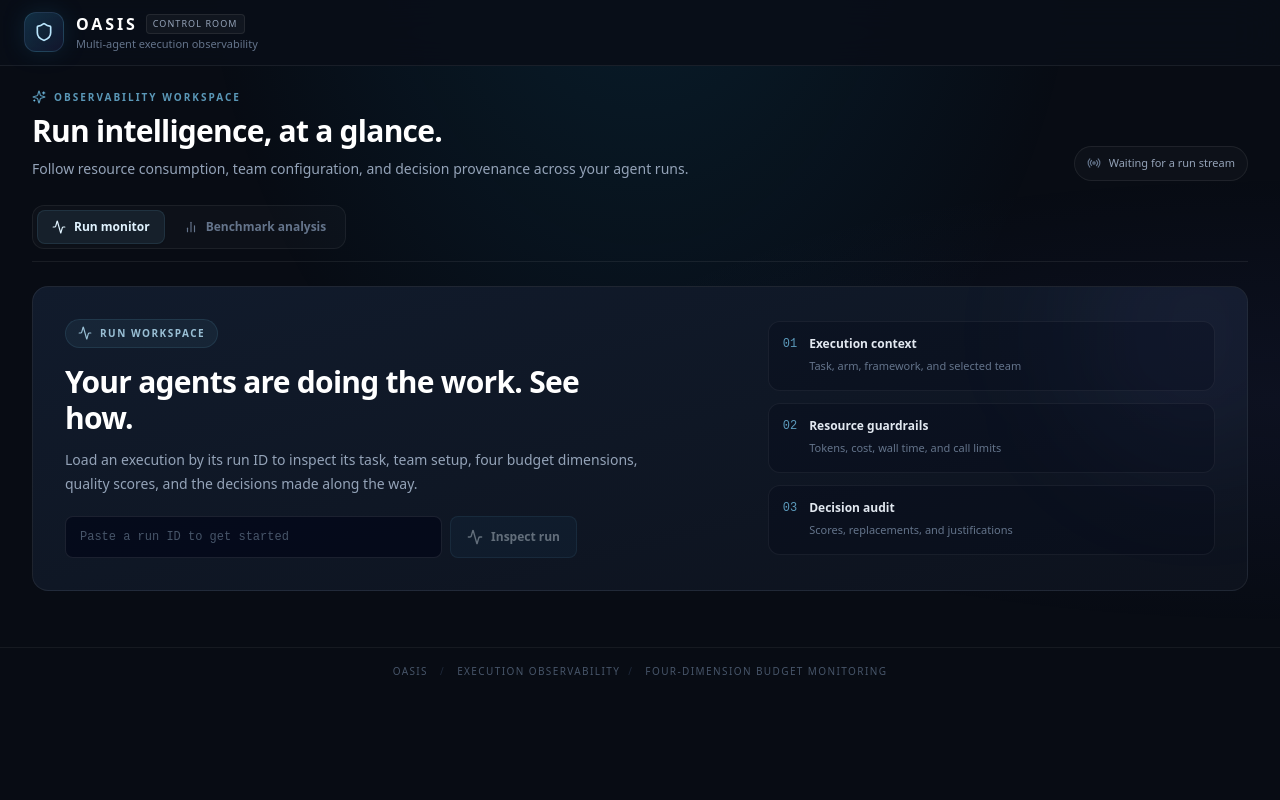
OASIS React Dashboard (FR-25) › loads the requested run and displays API-backed budget and decision data
Expected: the text "OASIS" is shown, [76,12,138,36]
Type "01JRUN00000000000000000001" into the field named "Run ID to inspect" at {"x": 254, "y": 536}, box [65,516,442,558]
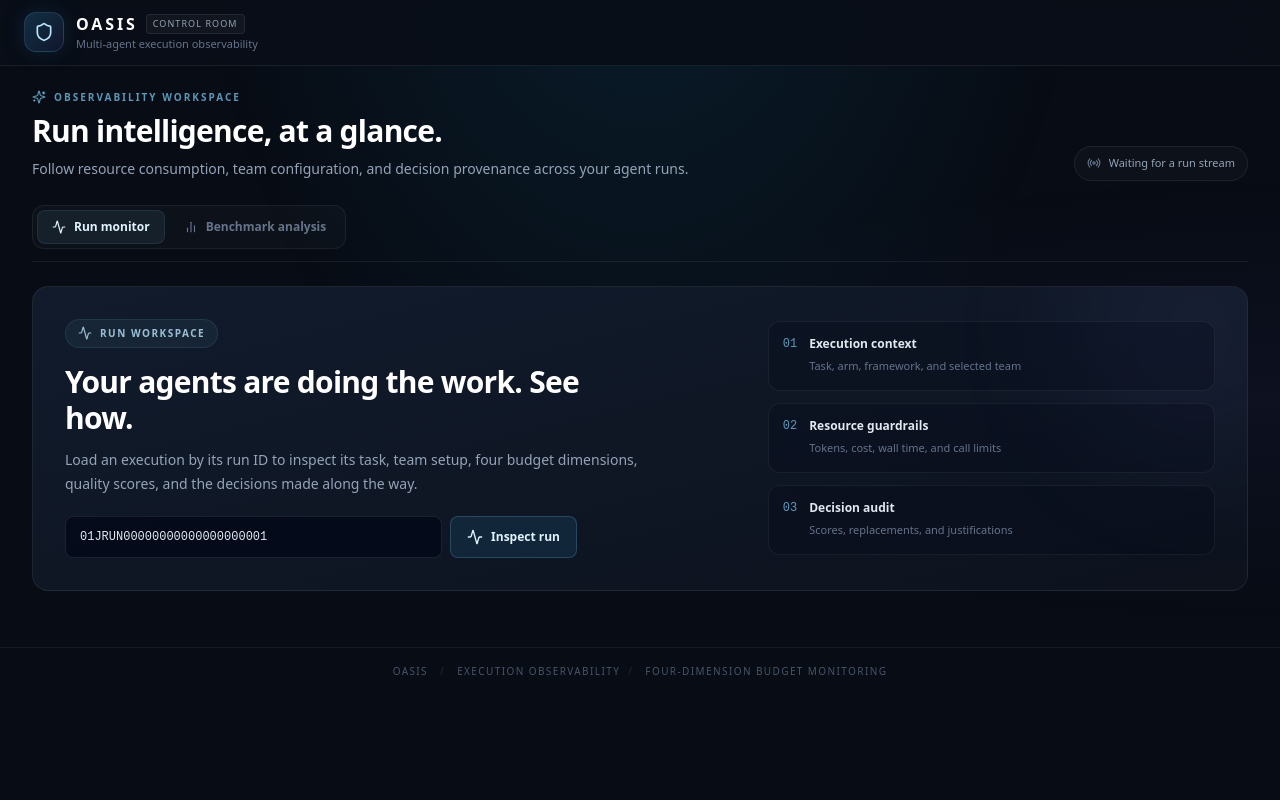
Click the button "Inspect run" at {"x": 514, "y": 536}, box [450,516,577,558]
(page scrolled)
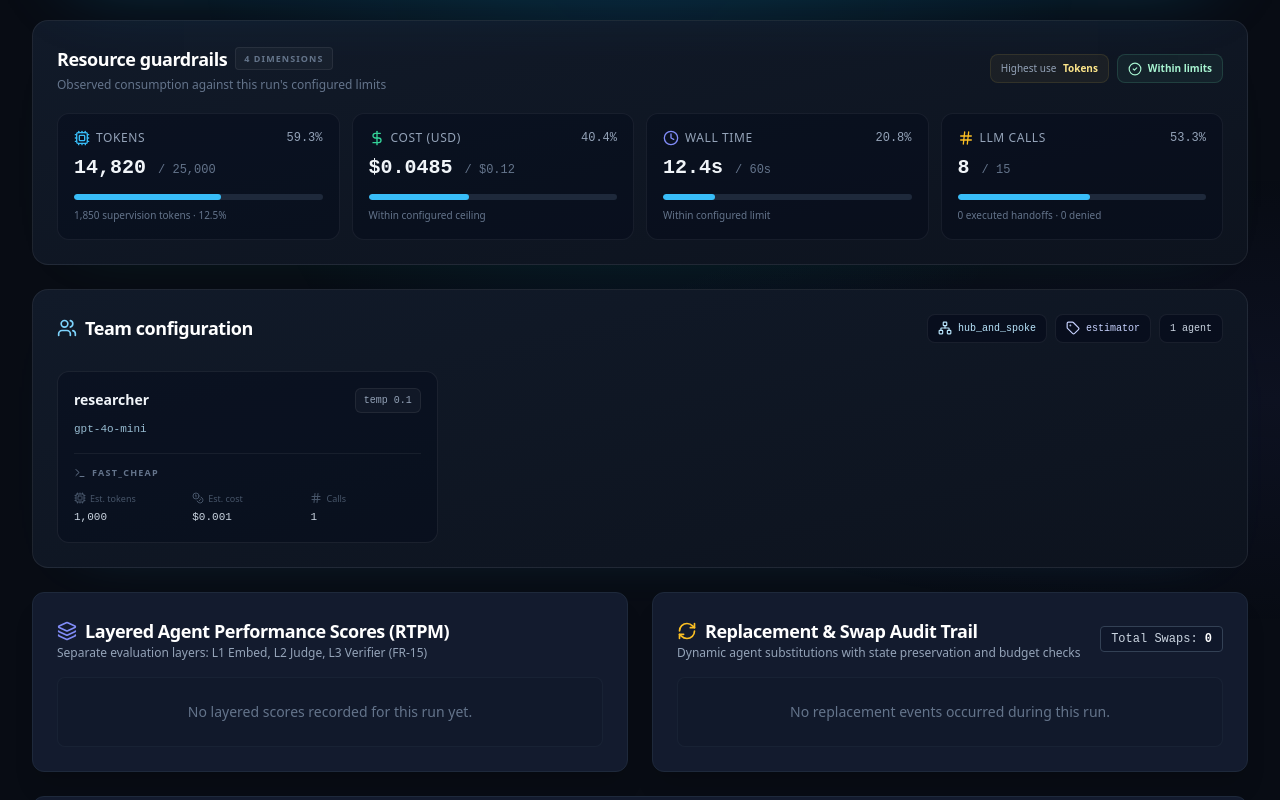
Expected: the heading "Resource guardrails" is shown, [57,44,227,72]
Now the text "researcher" is shown, box [74,390,149,410]
